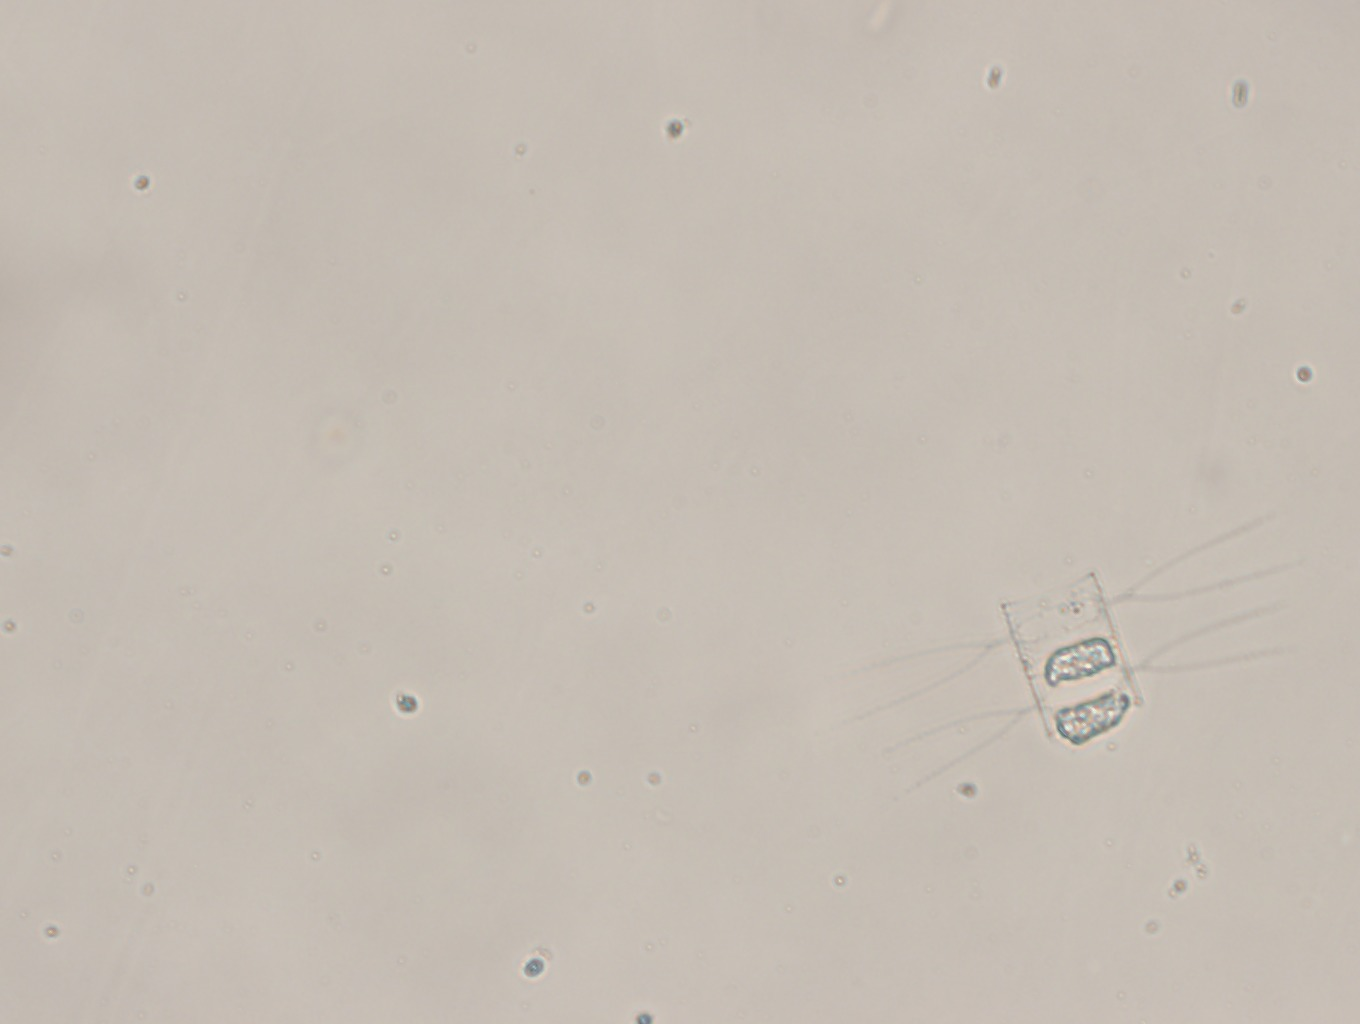chaetoceros: (815, 498, 1313, 826)
